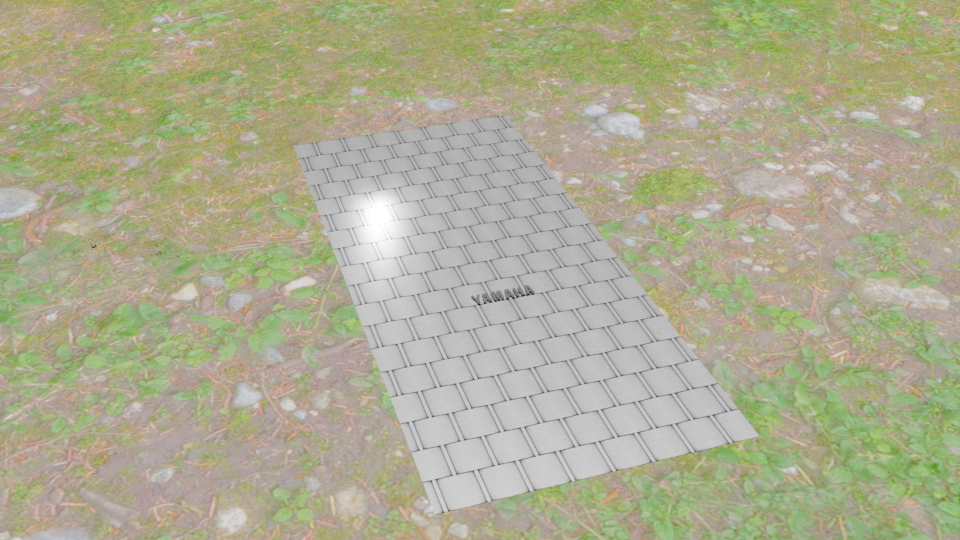yamaha_letters: (470, 284, 535, 304)
